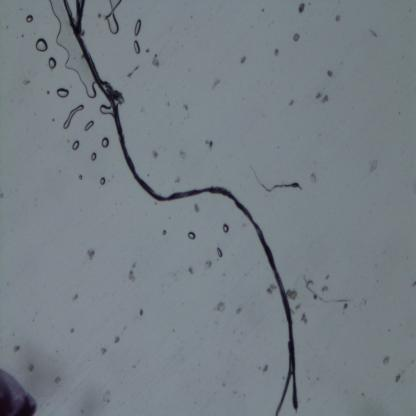Air bubble: (46, 0, 98, 100), (104, 0, 123, 35), (62, 105, 83, 129), (34, 38, 50, 52), (56, 88, 70, 100), (98, 104, 112, 116), (134, 18, 142, 37), (133, 40, 141, 57), (100, 135, 110, 148), (47, 56, 56, 70), (84, 120, 94, 131), (215, 246, 224, 258), (71, 140, 80, 151), (187, 230, 196, 241), (221, 224, 230, 233), (25, 14, 33, 23), (99, 177, 107, 185), (91, 151, 96, 161), (77, 173, 83, 181), (162, 230, 166, 235)
Background material: (367, 154, 380, 175), (264, 280, 278, 295), (126, 65, 140, 79), (84, 246, 97, 261), (287, 287, 300, 301), (380, 354, 392, 368), (215, 298, 226, 313), (212, 74, 222, 90), (203, 138, 214, 152), (152, 52, 161, 69), (316, 90, 328, 102), (128, 270, 138, 284), (26, 361, 38, 372), (310, 170, 319, 184), (10, 342, 21, 353), (367, 26, 378, 37), (297, 2, 307, 14), (392, 372, 401, 384), (300, 311, 308, 324), (70, 291, 80, 301), (103, 391, 112, 402), (179, 147, 187, 159), (326, 67, 334, 79), (181, 101, 188, 113), (239, 53, 246, 65), (112, 334, 121, 343), (22, 77, 31, 86), (272, 47, 280, 57), (288, 96, 296, 106), (193, 202, 201, 212), (292, 32, 300, 42), (137, 306, 144, 317), (100, 346, 108, 355), (261, 363, 269, 372), (187, 264, 194, 274), (174, 174, 181, 184), (204, 258, 211, 268), (342, 301, 348, 311), (322, 284, 329, 292), (152, 150, 159, 158), (69, 326, 76, 334), (54, 377, 61, 384), (359, 391, 366, 398), (323, 274, 331, 280), (335, 14, 341, 22), (131, 262, 138, 268), (145, 47, 150, 53), (236, 307, 241, 313), (411, 281, 416, 287), (167, 99, 171, 106), (261, 6, 265, 13), (296, 303, 300, 310)
Cellulose filter fibre: (248, 165, 303, 195), (302, 278, 354, 306)
Cotton: (60, 1, 302, 412)
Pen: (0, 368, 38, 416)
